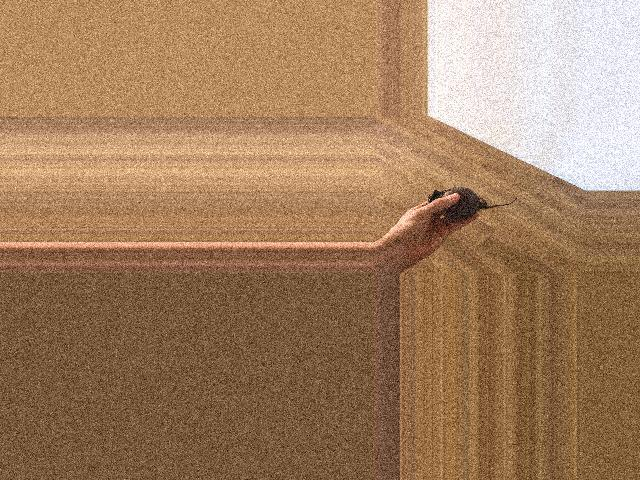beet: (428, 187, 517, 219)
